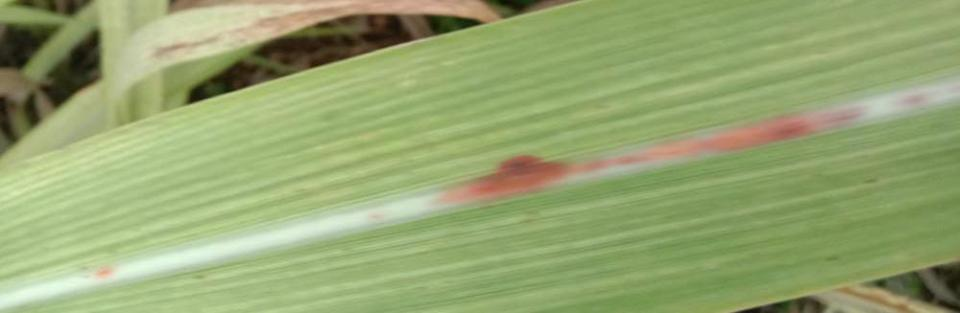RedRot: (427, 85, 941, 210), (86, 266, 120, 282), (366, 210, 388, 221)
